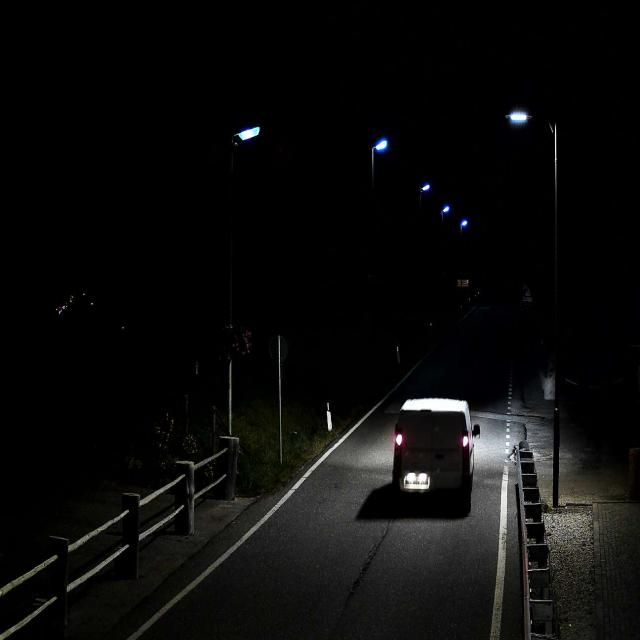car: (392, 397, 480, 496)
